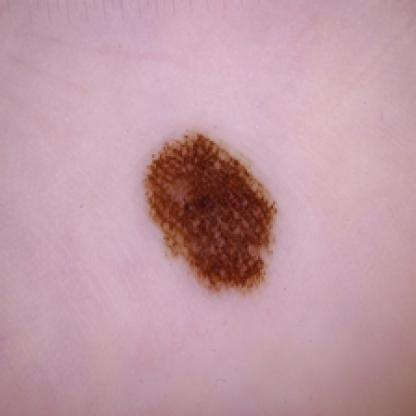benign: (141, 126, 297, 296)
